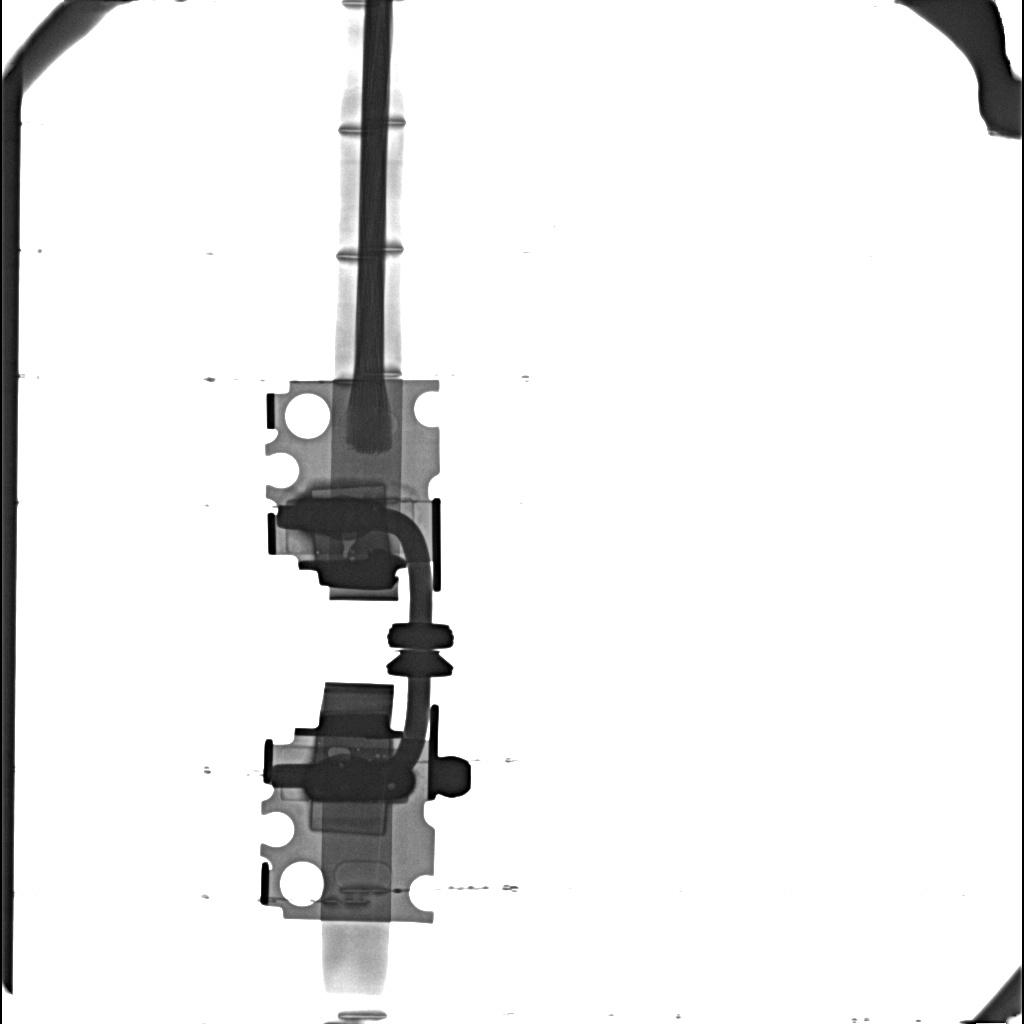defect: (305, 758, 413, 801), (295, 498, 384, 533), (308, 804, 388, 836), (310, 484, 386, 501), (328, 747, 351, 757), (343, 539, 356, 554)
